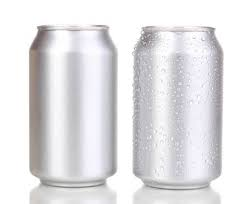can: (20, 12, 126, 191), (128, 17, 230, 193)
